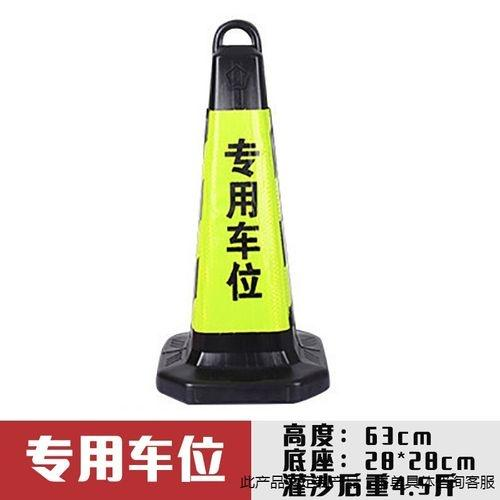cone_barrel: (152, 28, 330, 410)
